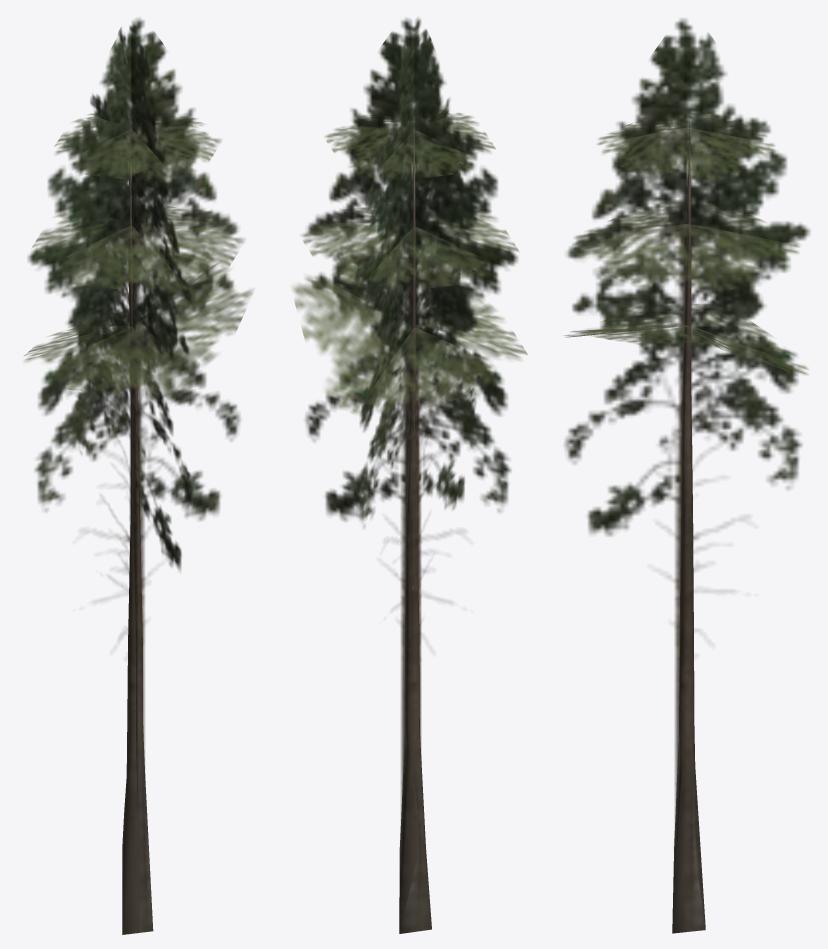
File: distant-tree-08.glb
3 renders of one model, left to right at view 1: azimuth 30°, elevation 25°; view 2: azimuth 150°, elevation 25°; view 3: azimuth 270°, elevation 25°, orthographic.
Visible parts, largest first — view 1: Background_Tree_Atlas.007; view 2: Background_Tree_Atlas.007; view 3: Background_Tree_Atlas.007.
Boxes of the visible parts, x1,y1,x2,y2 form: Background_Tree_Atlas.007: (24, 18, 252, 934); Background_Tree_Atlas.007: (293, 18, 527, 933); Background_Tree_Atlas.007: (564, 19, 809, 933).
Bounding box in the file's own units: 650 × 2601 × 652.
Materials: 1 (1 with a texture image).
